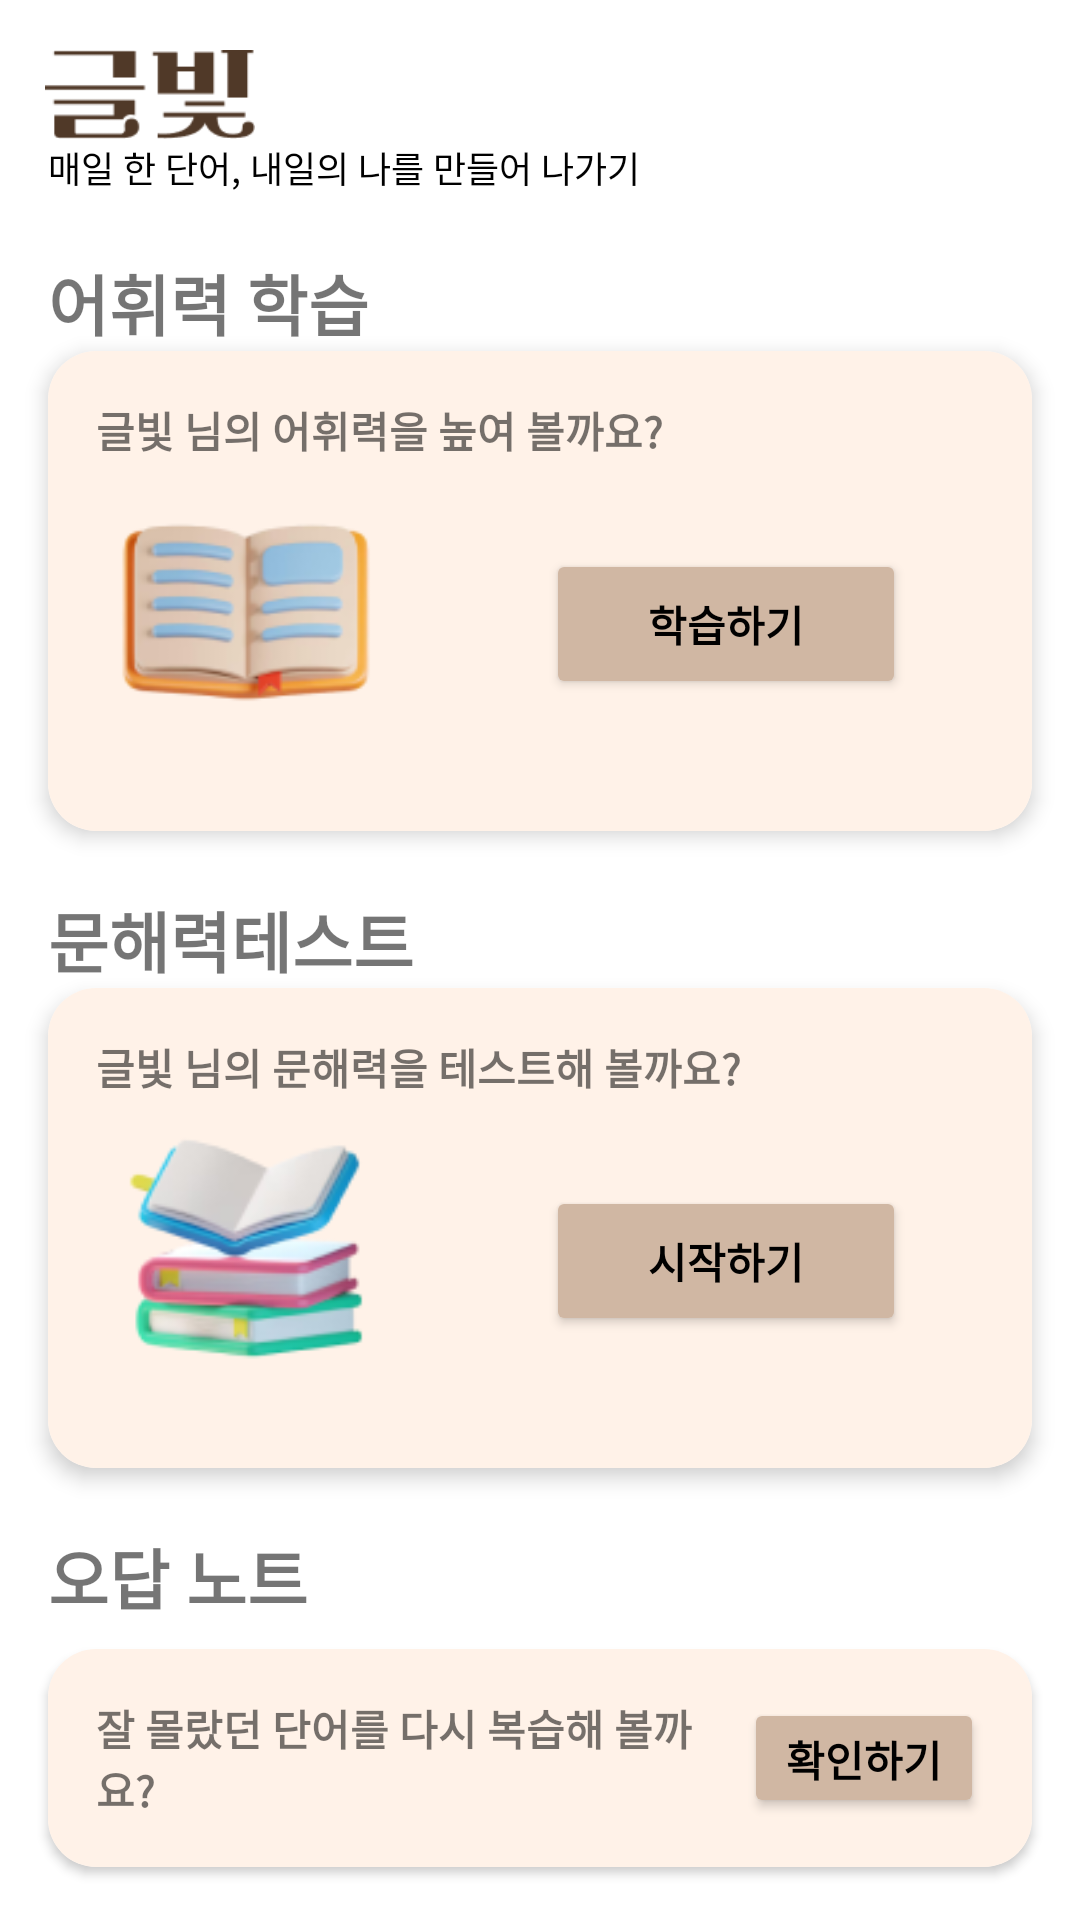

Icons on this 1080px×1920px Android screen, each with its box as BBox(x1, y1, x2, y2):
book: BBox(122, 526, 369, 700)
books: BBox(130, 1142, 363, 1358)
